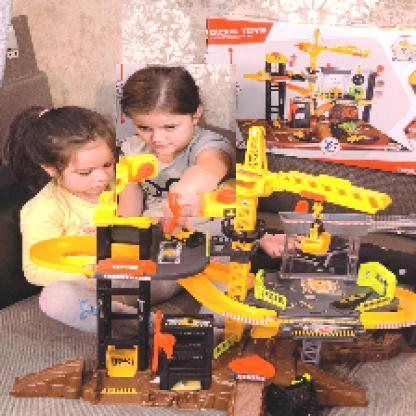child: (6, 105, 185, 339), (117, 65, 238, 219)
